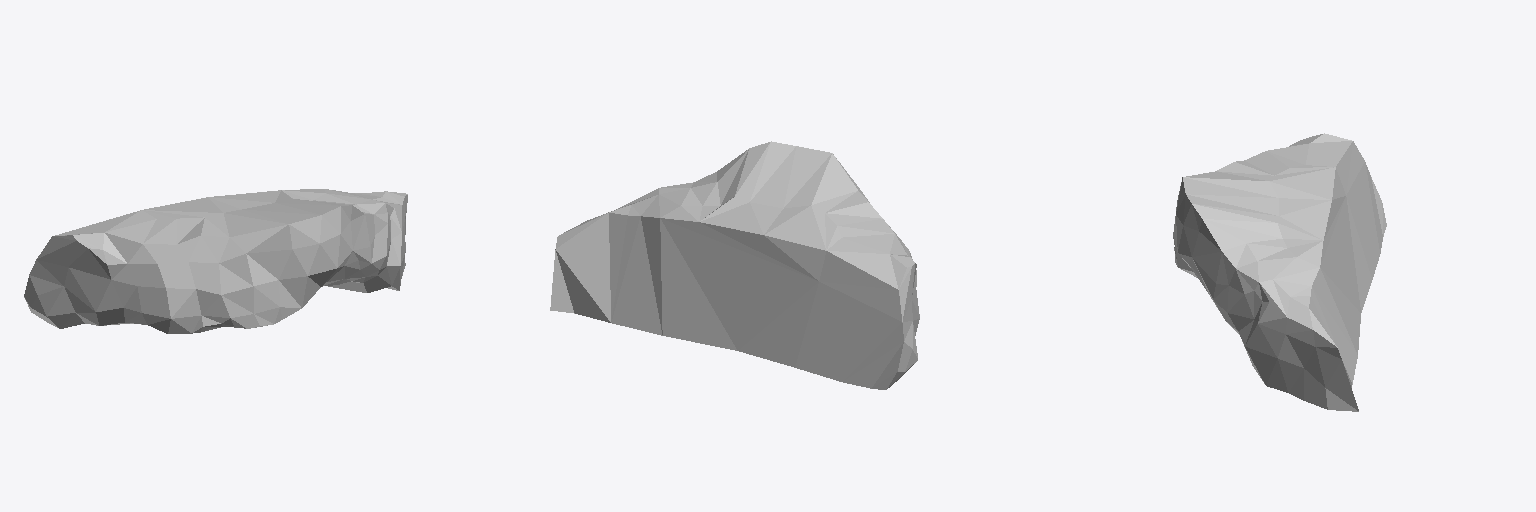
The model's file is collision_proxy.obj.
3 views of the same model, side by side, from view 1: azimuth 30°, elevation 25°; view 2: azimuth 150°, elevation 25°; view 3: azimuth 270°, elevation 25° (orthographic).
Parts seen in each view (by area): view 1: Torus.001; view 2: Torus.001; view 3: Torus.001.
Boxes of the visible parts, <box> form: Torus.001: <box>24,189,407,333</box>; Torus.001: <box>550,141,919,389</box>; Torus.001: <box>1173,133,1386,411</box>.
Size of the model in its own units: 2.24 by 0.8532 by 1.14.